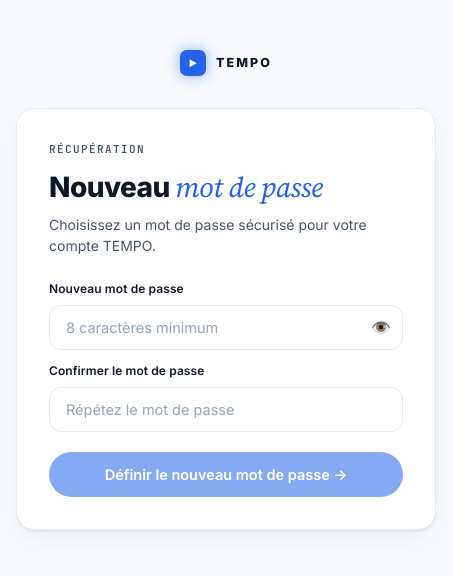
Scenario: ResetPassword › Soumission réussie › affiche le message de succès après update
The width and height of the screenshot is (453, 576).
Type "Secure1234!" into the password field labelled "Nouveau mot de passe". click: (226, 327)
box: [49,305,403,350]
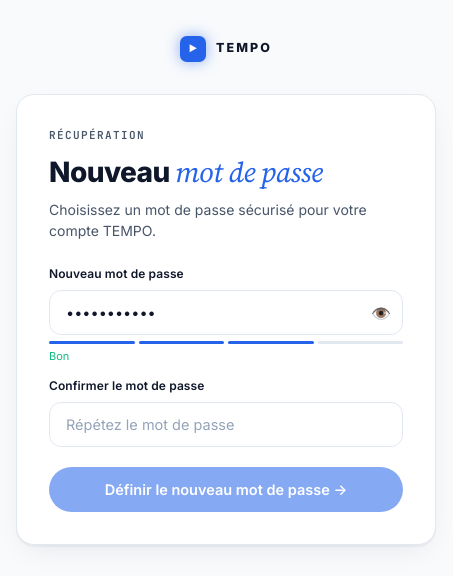
Type "Secure1234!" into the password field labelled "Confirmer le mot de passe". click: (226, 424)
box: [49,402,403,446]
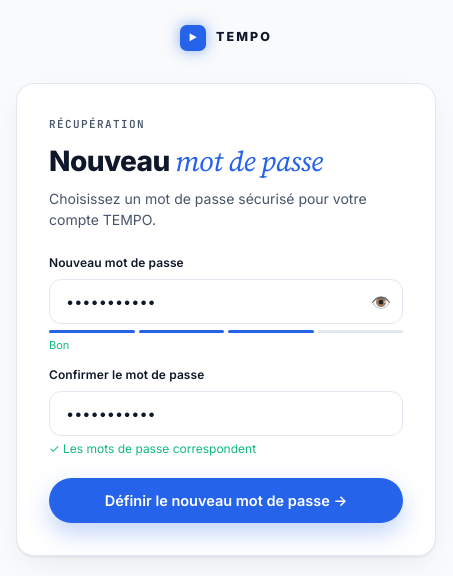
Submit the form, box [49,254,403,522]
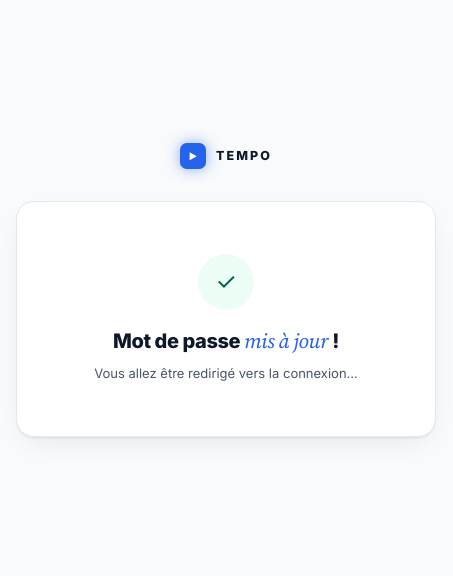
Now the text "Vous allez être redirigé vers la connexion..." is shown, box [94,365,358,381]
Now the text "mis à jour" is shown, box [244,327,328,355]
